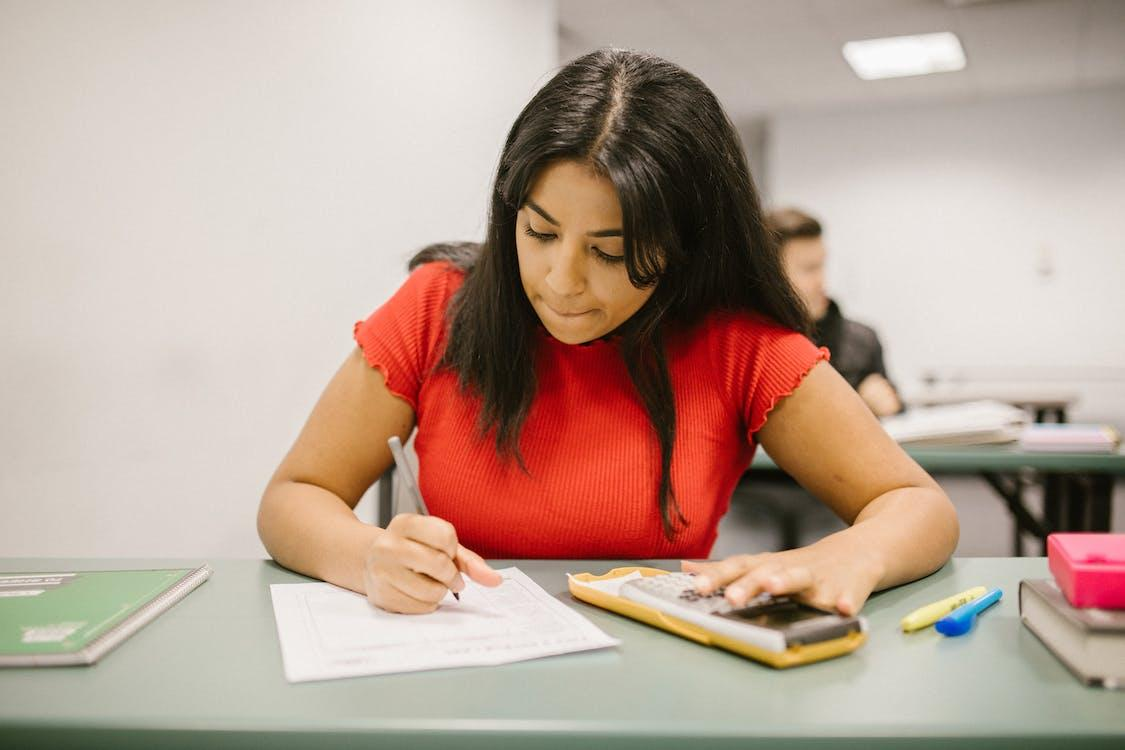good: (234, 42, 972, 715)
